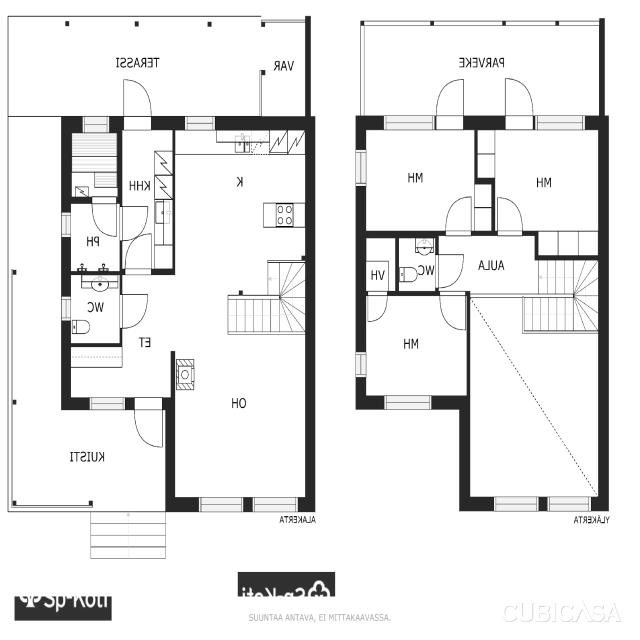door: (111, 84, 165, 126), (494, 80, 544, 124), (426, 81, 476, 123), (126, 408, 172, 444), (436, 196, 478, 233), (109, 208, 157, 238), (84, 202, 127, 235), (431, 296, 475, 328), (116, 239, 160, 270), (490, 198, 530, 232), (429, 256, 473, 286), (118, 294, 158, 326), (362, 294, 393, 319)
window: (371, 112, 447, 130), (522, 113, 602, 130), (366, 394, 450, 410), (477, 496, 556, 512), (184, 496, 258, 512), (240, 498, 312, 512), (533, 497, 605, 511), (174, 114, 226, 130), (72, 114, 121, 130), (78, 397, 135, 410), (351, 149, 371, 184), (55, 212, 78, 238), (351, 351, 371, 378), (57, 295, 75, 321)
zone: (469, 294, 603, 502), (363, 24, 604, 115), (172, 361, 310, 498), (174, 125, 310, 257), (474, 124, 602, 233), (360, 292, 468, 399), (366, 126, 476, 231), (438, 230, 537, 293), (119, 127, 174, 212), (65, 273, 122, 344), (66, 128, 120, 201), (67, 199, 119, 270), (398, 232, 436, 293), (361, 232, 397, 292)
